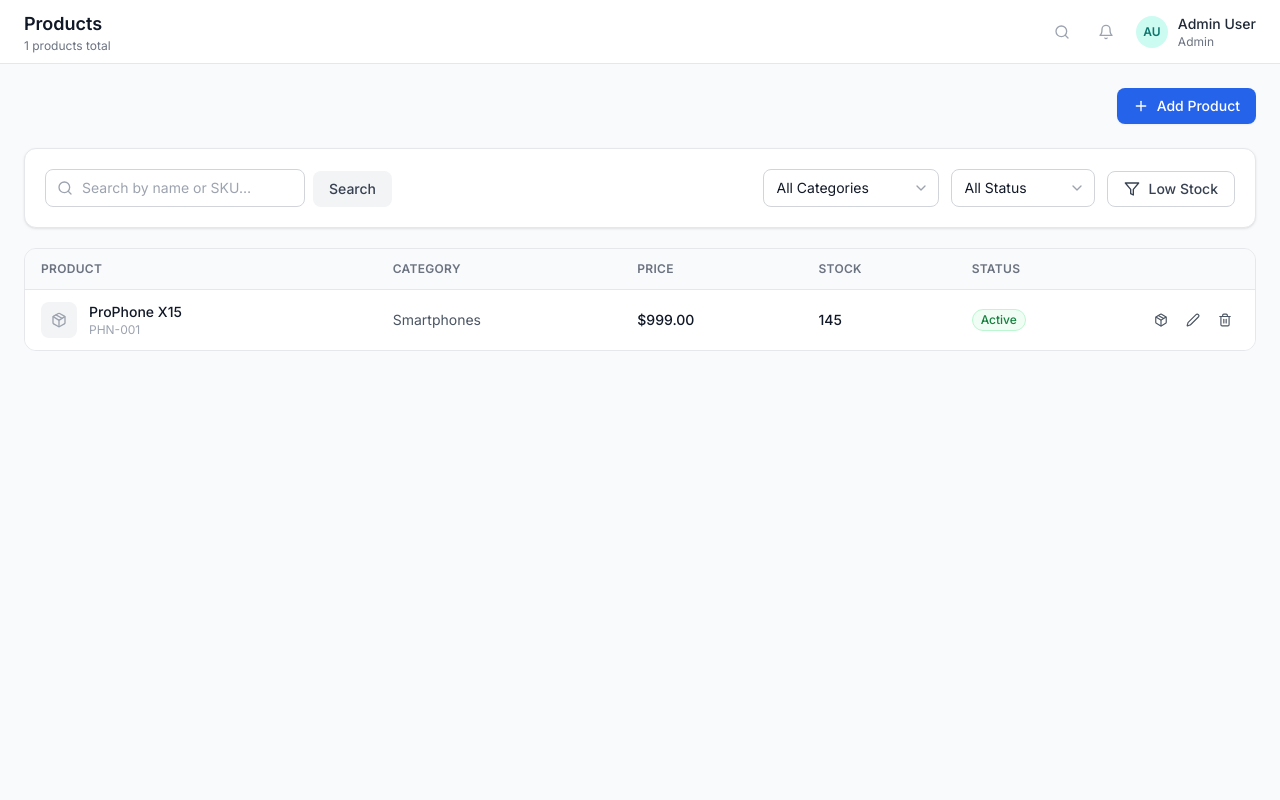
Scenario: Products — Edit › opens the edit modal pre-filled with product data
Check: the text "ProPhone X15" is shown, box [89,302,182,322]
Click the edit button (pencil icon)
Click the button titled "Edit" at [1193, 320], box [1179,306,1207,334]
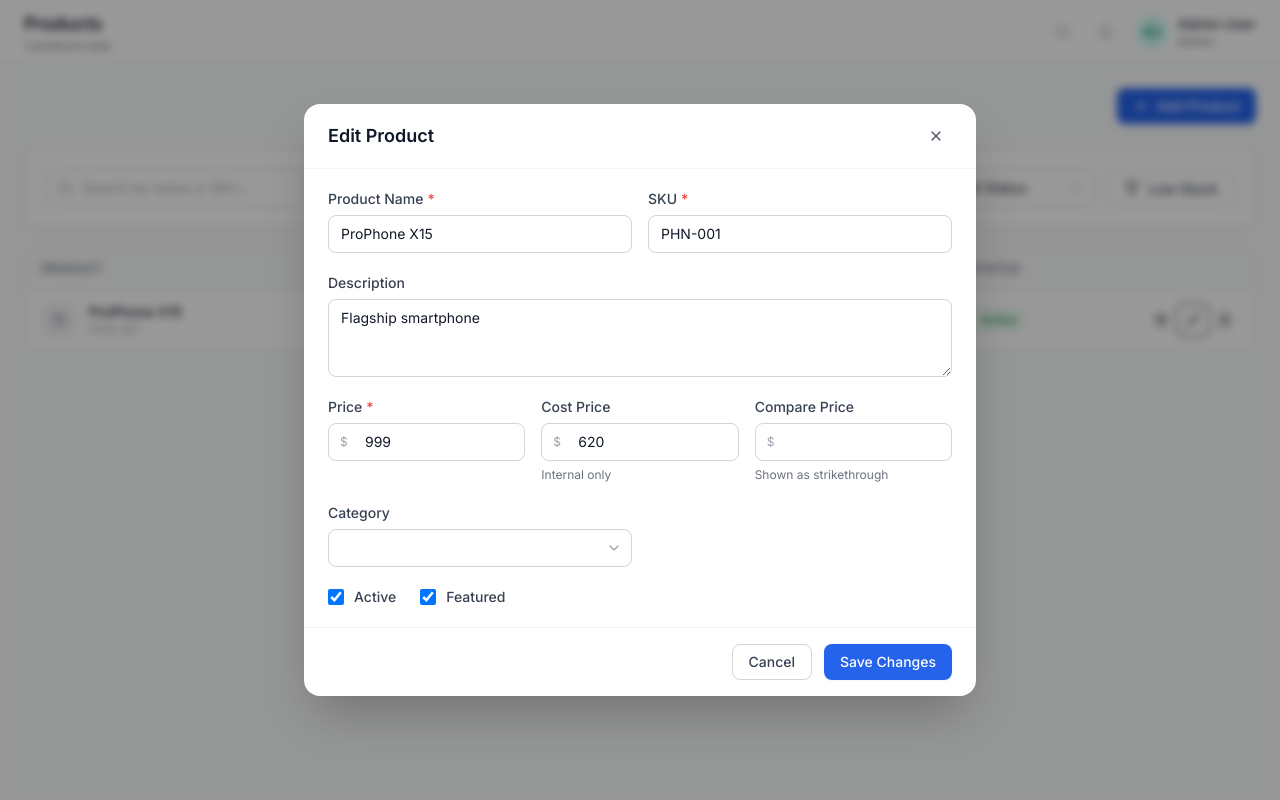
Check: the field showing "ProPhone X15" is shown, box [328,215,632,253]
Check: the field showing "PHN-001" is shown, box [648,215,952,253]
